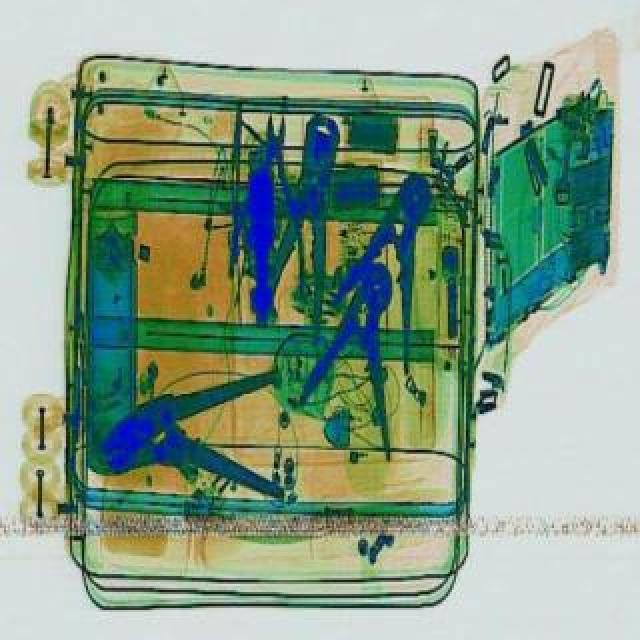wrench: (312, 162, 480, 382), (94, 372, 306, 526), (292, 258, 436, 462), (254, 116, 362, 350), (226, 116, 318, 300)
